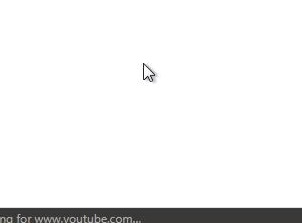cursor: (140, 60, 157, 85)
